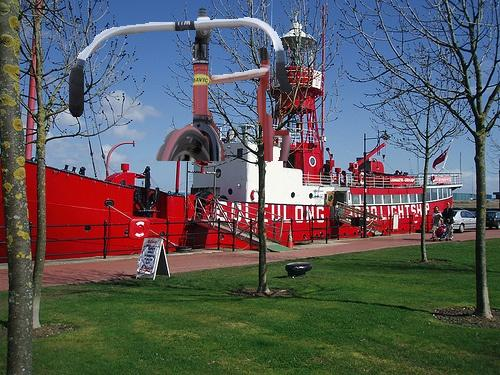tampered: (70, 8, 292, 161)
